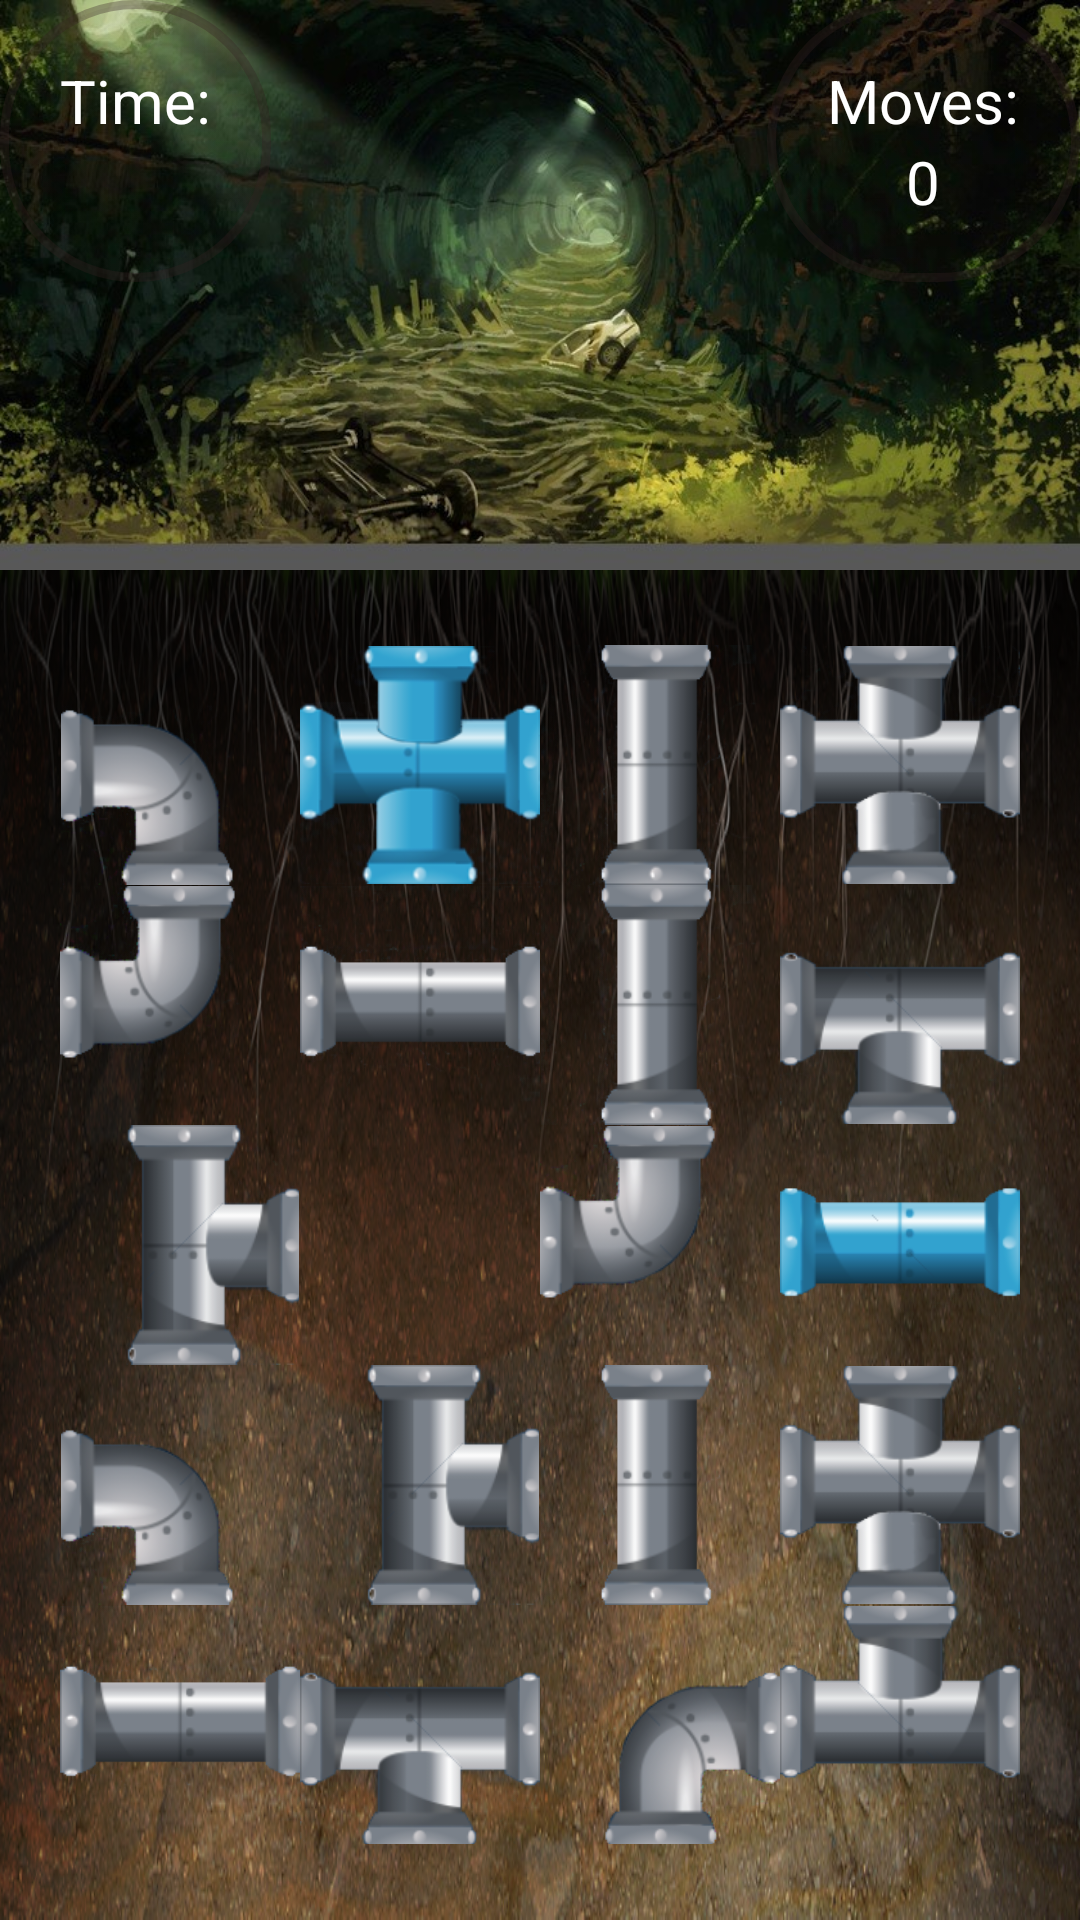

Point at icon controls on the screen. Image size 1080x1920, points as (x=x, y=y).
pipe borders leftbottom: (x=180, y=765), (x=180, y=1485)
pipe borders lefttop: (x=180, y=1005), (x=660, y=1245)
pipe borders rightbottom: (x=660, y=1725)
pipe fork bottom: (x=900, y=1005), (x=420, y=1725)
pipe fork right: (x=182, y=1245), (x=420, y=1485)
pipe four: (x=420, y=765), (x=900, y=765), (x=900, y=1485)
pipe straight: (x=420, y=1006), (x=900, y=1245), (x=180, y=1725)
pipe vertical: (x=660, y=765), (x=660, y=1005), (x=660, y=1485)
